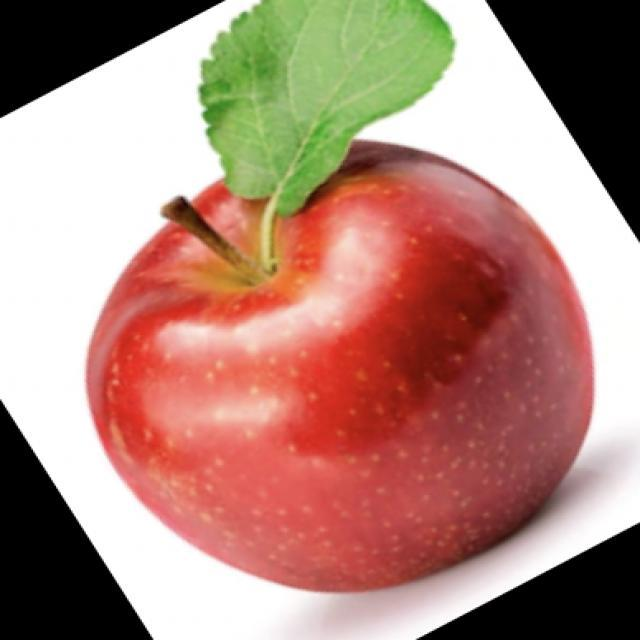Fresh Apple: (94, 134, 584, 584)
